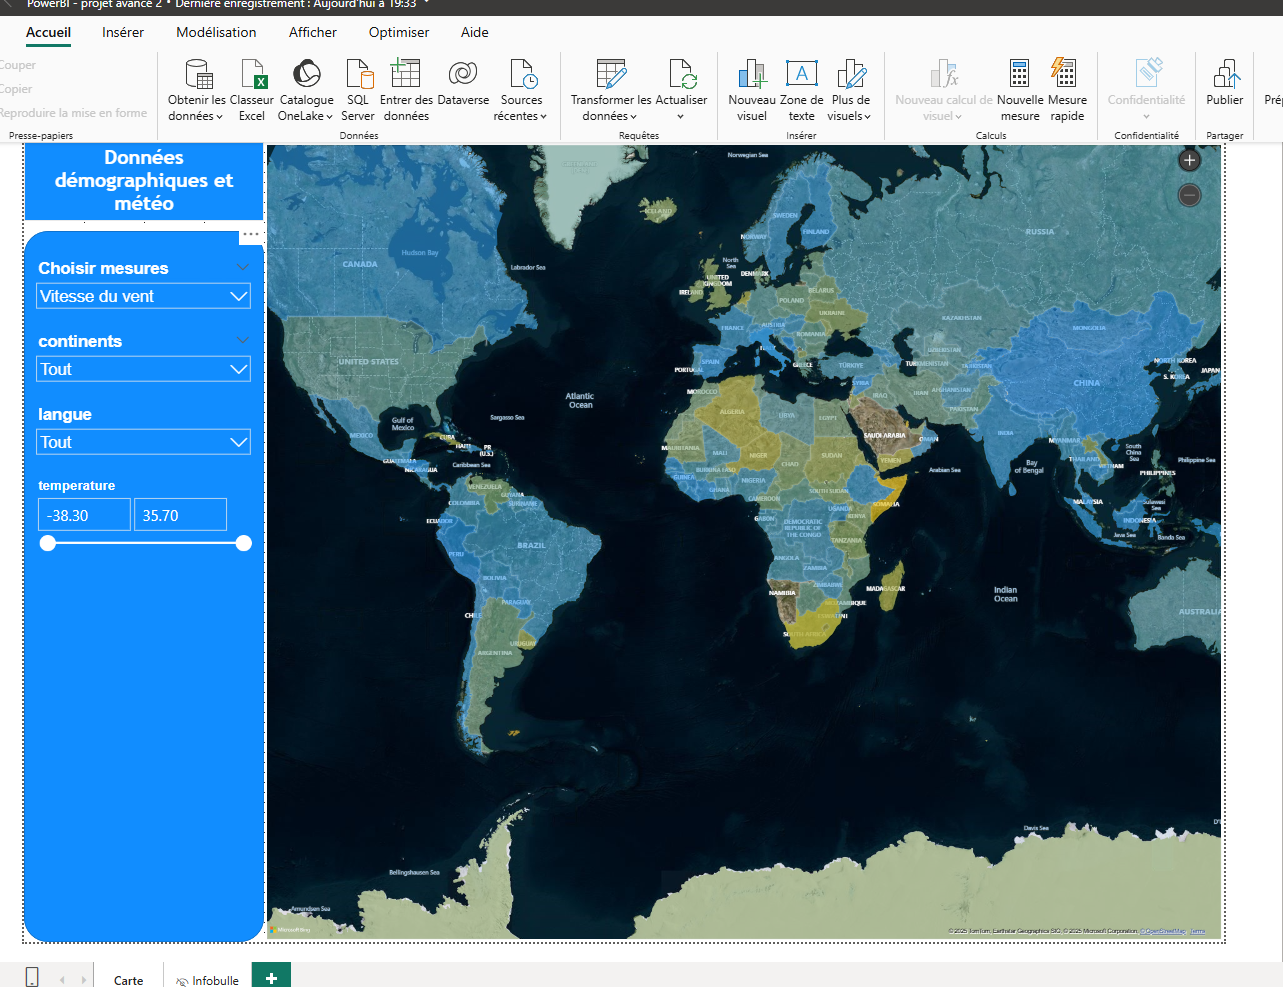

This screenshot's page, from the dashboard's own definition file:
{"tool":"powerbi","page":{"name":"Carte","canvas":[1920,1280],"ordinal":0},"visuals":[{"type":"shape","box":[0,142.4,384,1137.6],"z":0},{"type":"filledMap","fields":{"Category":["all.cca2"]},"box":[384,0,1536,1280],"z":1000},{"type":"textbox","box":[0,0,384,126.4],"z":2000},{"type":"slicer","fields":{"Values":["continents.continents"]},"box":[9.6,299.2,363.2,116.8],"z":3000},{"type":"slicer","fields":{"Values":["langues.langue"]},"box":[9.6,416,363.2,116.8],"z":4000},{"type":"slicer","fields":{"Values":["all.temperature"]},"box":[9.6,532.8,363.2,155.2],"z":5000},{"type":"slicer","fields":{"Values":["MetricsTable.MetricName"]},"box":[9.6,182.4,363.2,116.8],"z":5001}]}

Visuals, with their boxes on the page's 1920x1280 design canvas (x1, y1, x2, y2). These are canvas units, not pixel positions in the 1283x987 screenshot, which may show the page scaled, cropped or inside an application window:
shape: box(0, 142, 384, 1280)
filledMap - all.cca2: box(384, 0, 1920, 1280)
textbox: box(0, 0, 384, 126)
slicer - continents.continents: box(10, 299, 373, 416)
slicer - langues.langue: box(10, 416, 373, 533)
slicer - all.temperature: box(10, 533, 373, 688)
slicer - MetricsTable.MetricName: box(10, 182, 373, 299)
